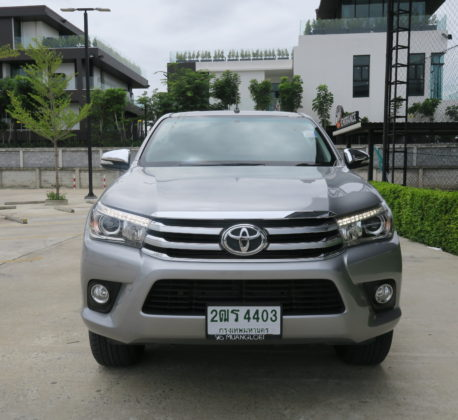pickup: (81, 102, 402, 369)
